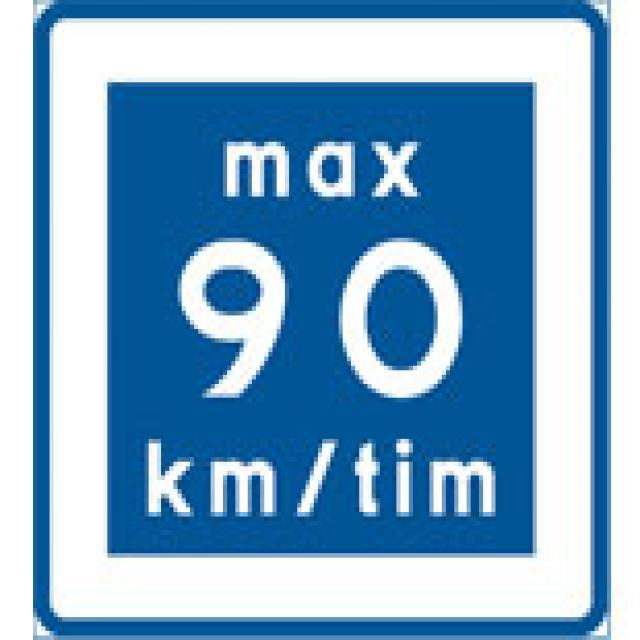speed limit-90: (29, 0, 616, 640)
